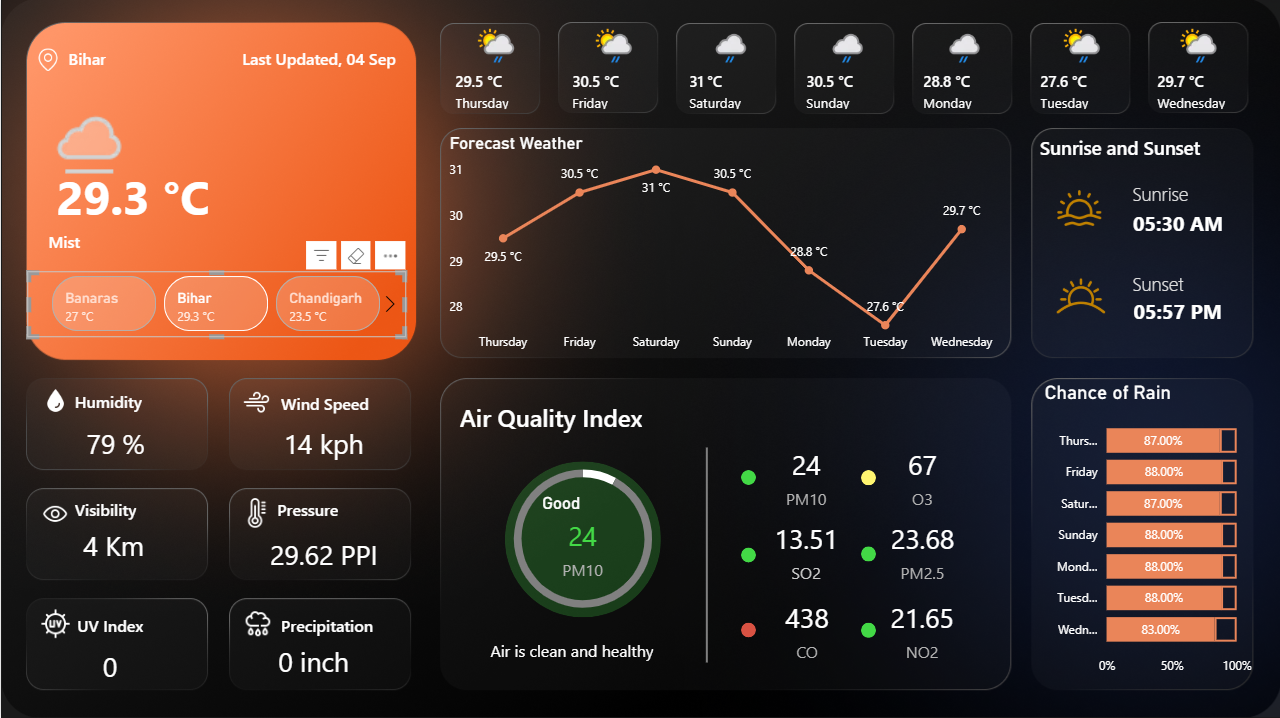

The dashboard page shown, as its layout file describes it:
{"tool":"powerbi","page":{"name":"Page 1","canvas":[1280,720],"ordinal":0},"visuals":[{"type":"advancedSlicerVisual","fields":{"Values":["Location.location.name"]},"box":[26.1,271.7,378.7,65.9],"z":0},{"type":"shape","box":[47.1,163.3,168.9,63.7],"z":1000},{"type":"shape","box":[47.1,227,155,27.7],"z":2000},{"type":"shape","box":[67.8,40.1,155,36],"z":3000},{"type":"shape","box":[240.8,44.3,164.7,27.7],"z":4000},{"type":"image","box":[26.3,44.3,41.5,31.8],"z":5000},{"type":"cardVisual","fields":{"Data":["Min(Current.current.condition.icon)"]},"box":[25.8,75.8,117.7,106.4],"z":6000},{"type":"image","box":[33.3,384.2,41.7,34.2],"z":7000},{"type":"image","box":[236.7,384.2,39.2,36.7],"z":8000},{"type":"image","box":[34.2,495,40,37.5],"z":9000},{"type":"image","box":[236.7,492.5,39.2,40],"z":10000},{"type":"image","box":[33.3,604.2,41.7,40],"z":11000},{"type":"image","box":[234.2,604.2,45.8,40],"z":12000},{"type":"shape","box":[74.2,387.5,69.2,27.5],"z":13000},{"type":"shape","box":[280,389.2,89.2,27.5],"z":14000},{"type":"shape","box":[74.2,495,69.2,27.5],"z":15000},{"type":"shape","box":[275.8,495,69.2,27.5],"z":16000},{"type":"shape","box":[75.8,610.8,69.2,27.5],"z":17000},{"type":"shape","box":[280,610.8,100,27.5],"z":18000},{"type":"card","fields":{"Values":["_Measures.Humidity_perc"]},"box":[74,419.7,81.5,49.8],"z":19000},{"type":"card","fields":{"Values":["_Measures.Wind_speed"]},"box":[265.7,419.7,113.2,49.8],"z":20000},{"type":"card","fields":{"Values":["_Measures.Pressure_per_inch"]},"box":[250.6,531.4,143.4,48.3],"z":21000},{"type":"card","fields":{"Values":["_Measures.Precip_per_in"]},"box":[264.2,638.6,98.1,48.3],"z":22000},{"type":"card","fields":{"Values":["Sum(Current.current.uv)"]},"box":[60.4,643.2,98.1,48.3],"z":23000},{"type":"card","fields":{"Values":["_Measures.visibility_km"]},"box":[63.4,522.4,98.1,48.3],"z":24000},{"type":"advancedSlicerVisual","fields":{"Values":["Forecast_Days.Day_Name"]},"box":[435.7,15.7,826.4,99.3],"z":25000},{"type":"lineChart","title":"Forecast Weather","fields":{"Y":["Sum(Forecast_Days.forecast.forecastday.day.avgtemp_c)"],"Category":["Forecast_Days.Day_Name"]},"box":[443.8,132.5,558.8,227.5],"z":26000},{"type":"shape","box":[1038.6,134.3,184.3,28.6],"z":27000},{"type":"shape","box":[1130.9,205.5,91.8,35.5],"z":28000},{"type":"shape","box":[1130.9,295.5,90.9,30.9],"z":29000},{"type":"shape","box":[1131.8,181.8,102.7,23.6],"z":30000},{"type":"shape","box":[1130.9,271.8,102.7,23.6],"z":31000},{"type":"image","box":[1047.3,181.8,60.9,53.6],"z":32000},{"type":"image","box":[1038.8,258.1,82.5,74.4],"z":33000},{"type":"hundredPercentStackedBarChart","title":"Chance of Rain","fields":{"Category":["Forecast_Days.Day_Name"],"Y":["Sum(Forecast_Days.forecast.forecastday.day.daily_chance_of_rain)","Current.Left_Value_Rain"]},"box":[1038.6,381.4,217.1,302.9],"z":34000},{"type":"shape","box":[458.6,390,195.7,54.3],"z":35000},{"type":"card","fields":{"Values":["Sum(Current.current.air_quality.pm10)"]},"box":[762.9,440,85.7,74.3],"z":36000},{"type":"card","fields":{"Values":["Sum(Current.current.air_quality.o3)"]},"box":[878.6,440,85.7,74.3],"z":37000},{"type":"card","fields":{"Values":["Sum(Current.current.air_quality.pm2_5)"]},"box":[878.6,514.3,85.7,74.3],"z":38000},{"type":"card","fields":{"Values":["Sum(Current.current.air_quality.so2)"]},"box":[762.9,514.3,85.7,74.3],"z":39000},{"type":"card","fields":{"Values":["Sum(Current.current.air_quality.co)"]},"box":[755.7,592.9,100,74.3],"z":40000},{"type":"card","fields":{"Values":["Sum(Current.current.air_quality.no2)"]},"box":[871.4,592.9,100,74.3],"z":41000},{"type":"shape","box":[740.6,470,15,15],"z":42000},{"type":"shape","box":[859.4,469.4,15,15.6],"z":43000},{"type":"shape","box":[859.4,546.7,15,15.6],"z":44000},{"type":"shape","box":[740.6,547.2,15,15],"z":45000},{"type":"shape","box":[740.6,622.8,15,15],"z":46000},{"type":"shape","box":[859.4,622.2,15,15.6],"z":47000},{"type":"shape","box":[640,447.5,131.7,215],"z":48000},{"type":"shape","box":[503.6,460.9,156.4,156.4],"z":48500},{"type":"card","fields":{"Values":["Sum(Current.current.air_quality.pm10)"]},"box":[536.4,492.7,90.9,91.8],"z":49000},{"type":"donutChart","fields":{"Y":["Sum(Current.current.air_quality.pm10)","_Measures.LEFT_VALUE_PM10"]},"box":[480.9,447.3,201.8,182.7],"z":50000},{"type":"shape","box":[450,622.7,241.8,54.5],"z":50001}]}

Visuals, with their boxes in screenshot pixels (x1, y1, x2, y2), scaled from the page's 1280x720 canvas onto the 1280x718 screenshot:
advancedSlicerVisual - Location.location.name: <region>26, 271, 405, 337</region>
shape: <region>47, 163, 216, 226</region>
shape: <region>47, 226, 202, 254</region>
shape: <region>68, 40, 223, 76</region>
shape: <region>241, 44, 406, 72</region>
image: <region>26, 44, 68, 76</region>
cardVisual - Min(Current.current.condition.icon): <region>26, 76, 144, 182</region>
image: <region>33, 383, 75, 417</region>
image: <region>237, 383, 276, 420</region>
image: <region>34, 494, 74, 531</region>
image: <region>237, 491, 276, 531</region>
image: <region>33, 603, 75, 642</region>
image: <region>234, 603, 280, 642</region>
shape: <region>74, 386, 143, 414</region>
shape: <region>280, 388, 369, 416</region>
shape: <region>74, 494, 143, 521</region>
shape: <region>276, 494, 345, 521</region>
shape: <region>76, 609, 145, 637</region>
shape: <region>280, 609, 380, 637</region>
card - _Measures.Humidity_perc: <region>74, 419, 156, 468</region>
card - _Measures.Wind_speed: <region>266, 419, 379, 468</region>
card - _Measures.Pressure_per_inch: <region>251, 530, 394, 578</region>
card - _Measures.Precip_per_in: <region>264, 637, 362, 685</region>
card - Sum(Current.current.uv): <region>60, 641, 158, 690</region>
card - _Measures.visibility_km: <region>63, 521, 162, 569</region>
advancedSlicerVisual - Forecast_Days.Day_Name: <region>436, 16, 1262, 115</region>
"Forecast Weather" lineChart: <region>444, 132, 1003, 359</region>
shape: <region>1039, 134, 1223, 162</region>
shape: <region>1131, 205, 1223, 240</region>
shape: <region>1131, 295, 1222, 325</region>
shape: <region>1132, 181, 1234, 205</region>
shape: <region>1131, 271, 1234, 295</region>
image: <region>1047, 181, 1108, 235</region>
image: <region>1039, 257, 1121, 332</region>
"Chance of Rain" hundredPercentStackedBarChart: <region>1039, 380, 1256, 682</region>
shape: <region>459, 389, 654, 443</region>
card - Sum(Current.current.air_quality.pm10): <region>763, 439, 849, 513</region>
card - Sum(Current.current.air_quality.o3): <region>879, 439, 964, 513</region>
card - Sum(Current.current.air_quality.pm2_5): <region>879, 513, 964, 587</region>
card - Sum(Current.current.air_quality.so2): <region>763, 513, 849, 587</region>
card - Sum(Current.current.air_quality.co): <region>756, 591, 856, 665</region>
card - Sum(Current.current.air_quality.no2): <region>871, 591, 971, 665</region>
shape: <region>741, 469, 756, 484</region>
shape: <region>859, 468, 874, 484</region>
shape: <region>859, 545, 874, 561</region>
shape: <region>741, 546, 756, 561</region>
shape: <region>741, 621, 756, 636</region>
shape: <region>859, 620, 874, 636</region>
shape: <region>640, 446, 772, 661</region>
shape: <region>504, 460, 660, 616</region>
card - Sum(Current.current.air_quality.pm10): <region>536, 491, 627, 583</region>
donutChart - Sum(Current.current.air_quality.pm10) x _Measures.LEFT_VALUE_PM10: <region>481, 446, 683, 628</region>
shape: <region>450, 621, 692, 675</region>
